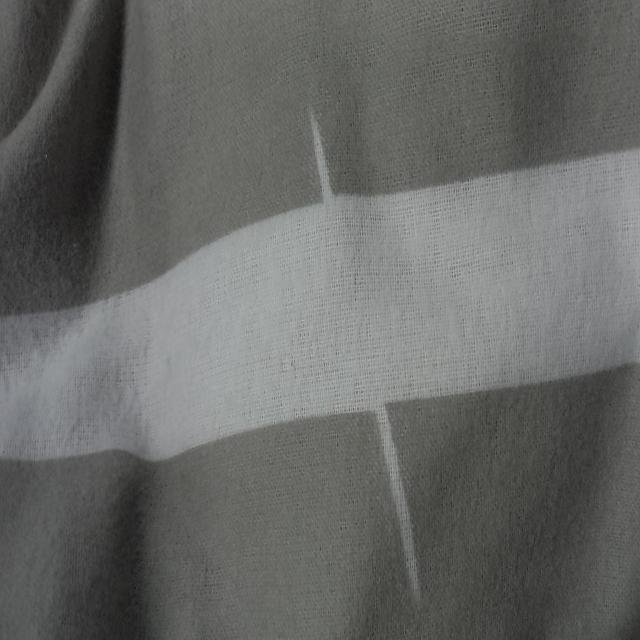selvet: (376, 404, 422, 599), (303, 109, 337, 210)
